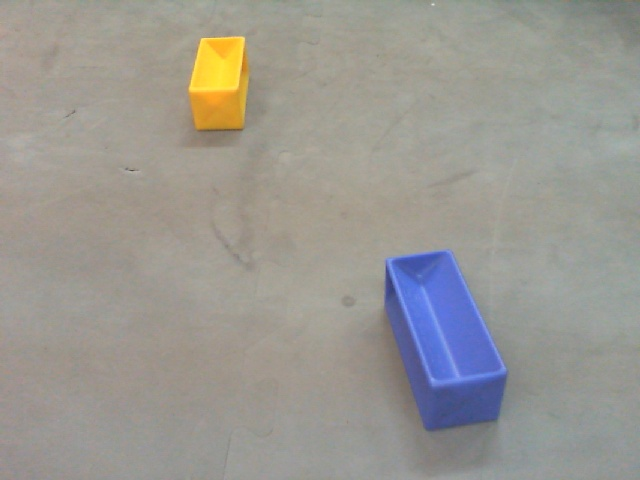BlueSample: (381, 247, 516, 432)
YellowSample: (185, 35, 254, 134)
